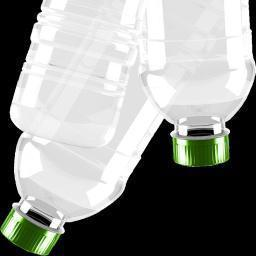plastic: (1, 0, 256, 256)
